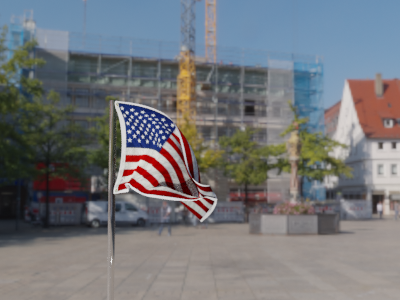America flag: (112, 99, 223, 224)
